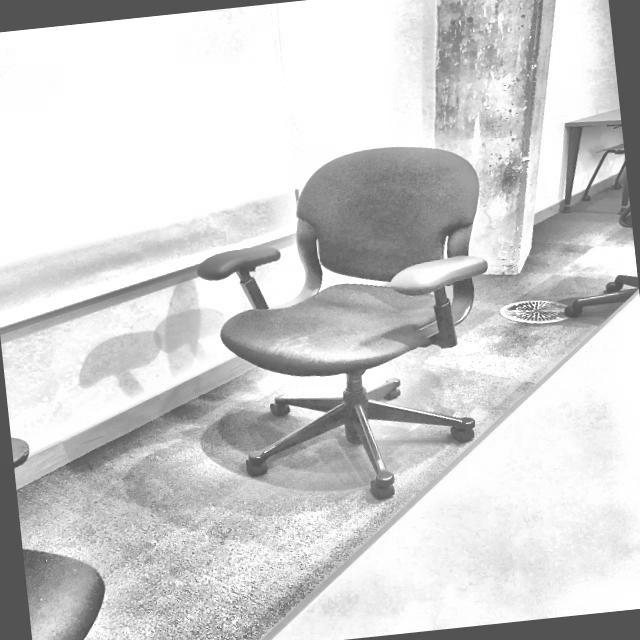chair: (183, 136, 514, 520)
